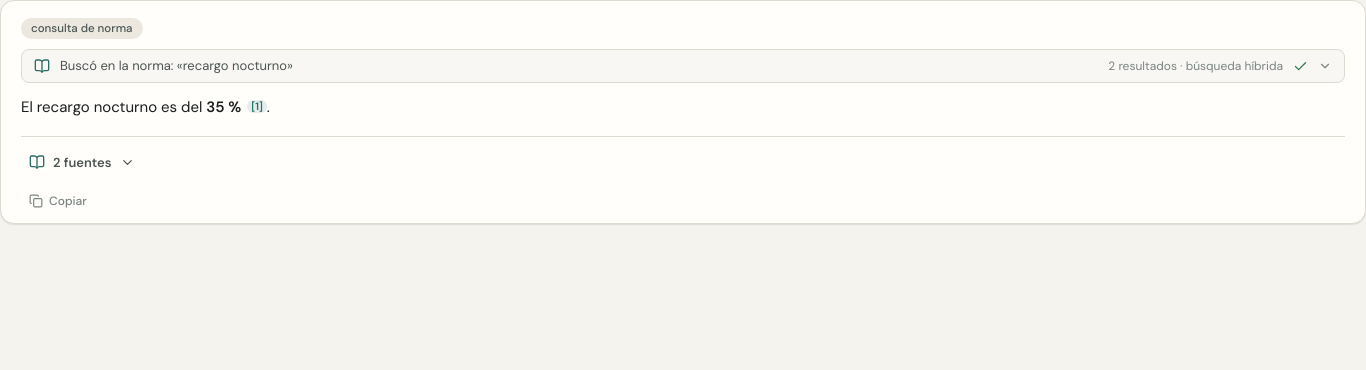
Test case: panel de fuentes › renderiza fuentes numeradas, el enlace y el chip de intención
The width and height of the screenshot is (1366, 370).
Check: the text "consulta de norma" is shown, box top-left (21, 18), bottom-right (142, 39)
Check: the button named "Ver fuente 1" reads "[1]", box top-left (247, 100), bottom-right (267, 113)
Click the button "2 fuentes". click: [82, 162]
box: top-left (21, 148), bottom-right (143, 176)
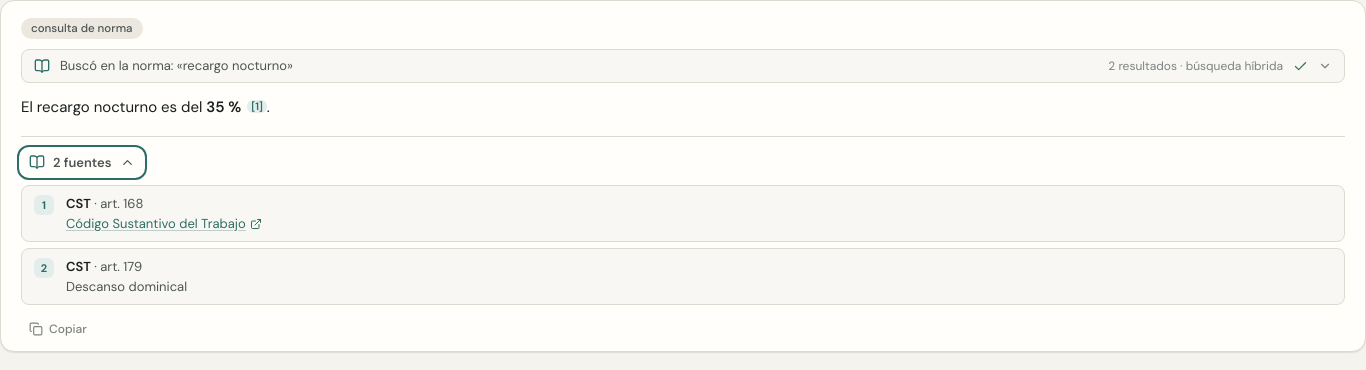
Check: the button "2 fuentes" is expanded, box top-left (21, 148), bottom-right (143, 176)
Check: the list item "1 CST · art. 168 Código Sustantivo del Trabajo" is shown, box top-left (21, 185), bottom-right (1345, 242)
Check: the list item "2 CST · art. 179 Descanso dominical" is shown, box top-left (21, 248), bottom-right (1345, 305)
